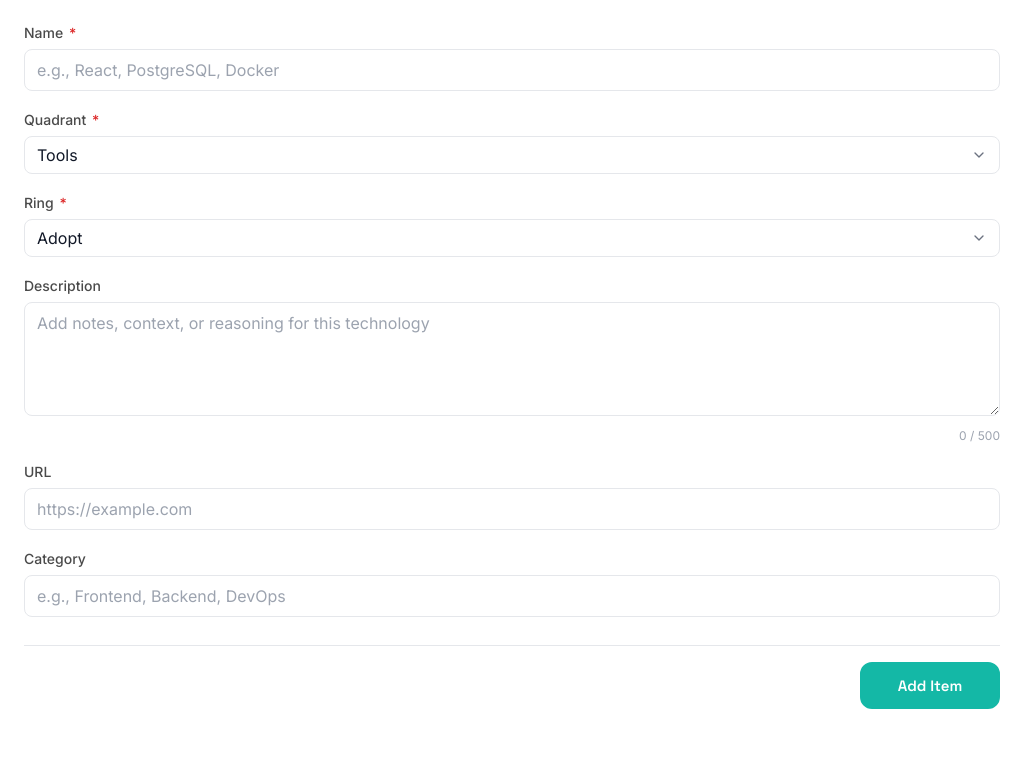
Test: TechItemForm › Rendering - Add Mode › should populate ring dropdown with default ring names
The width and height of the screenshot is (1024, 768).
What coordinates should you click on to do the following:
click the button named "ring"
I would click on:
 (60, 238)
Its box is [24,219,1000,257].
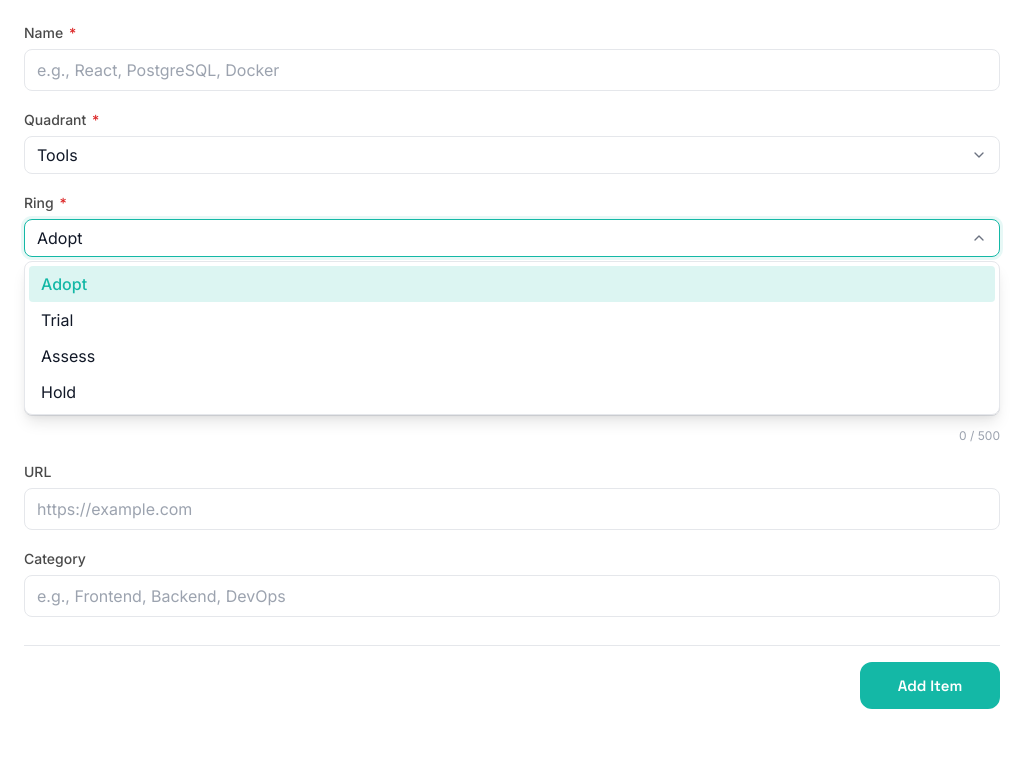
Now the option "Adopt" is shown, box [29,266,995,302]
Now the option "Trial" is shown, box [41,310,73,330]
Now the option "Assess" is shown, box [41,346,95,366]
